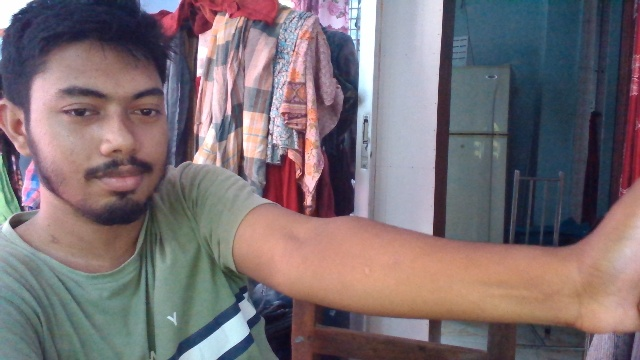yes: (614, 150, 640, 349)
